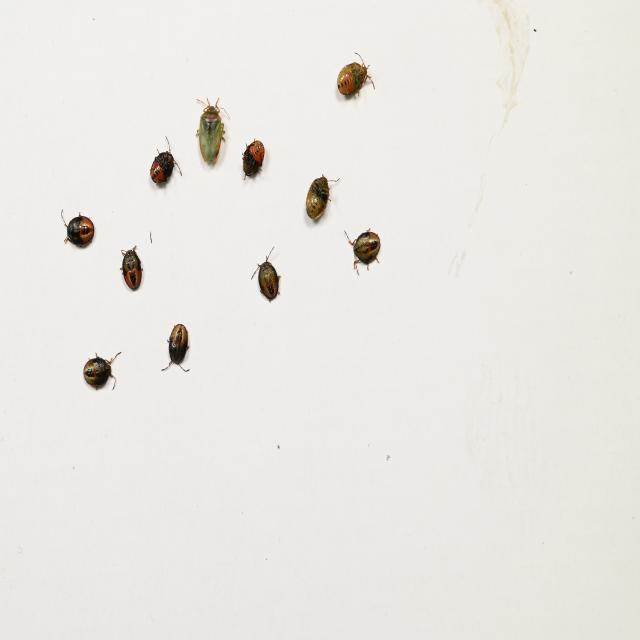stinkbug: (194, 91, 228, 170)
